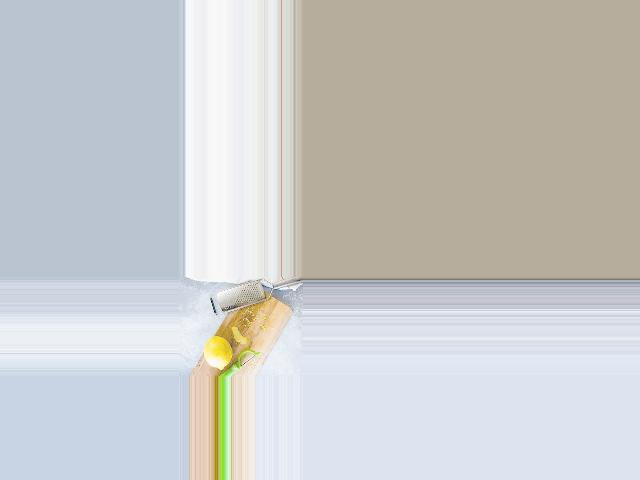lemon: (203, 336, 232, 370)
